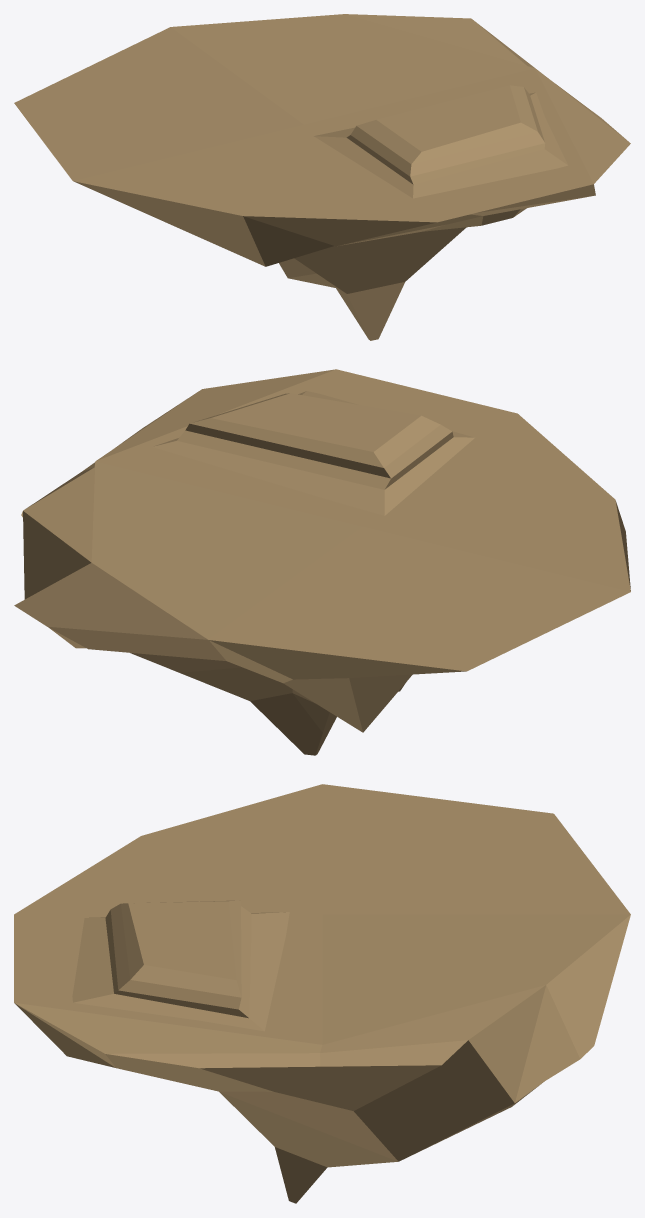
The model's file is medium_islands.fbx.
The picture shows the model from 3 angles, top to bottom: view 1: azimuth 30°, elevation 25°; view 2: azimuth 150°, elevation 25°; view 3: azimuth 270°, elevation 25°; orthographic projection. The views are drawn at different scales.
Visible parts, largest first — view 1: medium_island; view 2: medium_island; view 3: medium_island.
Boxes of the visible parts, x1,y1,x2,y2 form: medium_island: [14, 14, 630, 340]; medium_island: [14, 369, 630, 755]; medium_island: [14, 784, 630, 1203].
Bounding box in the file's own units: 1151 × 572 × 1120.
